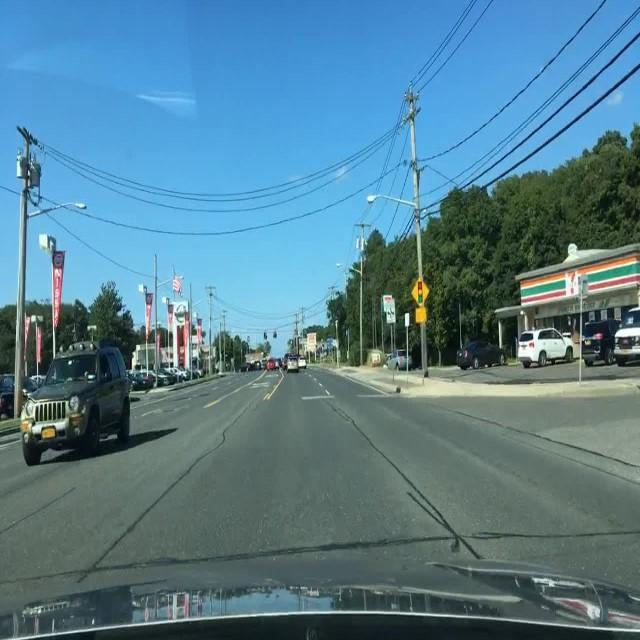normal: (1, 326, 137, 473), (497, 325, 574, 372)
